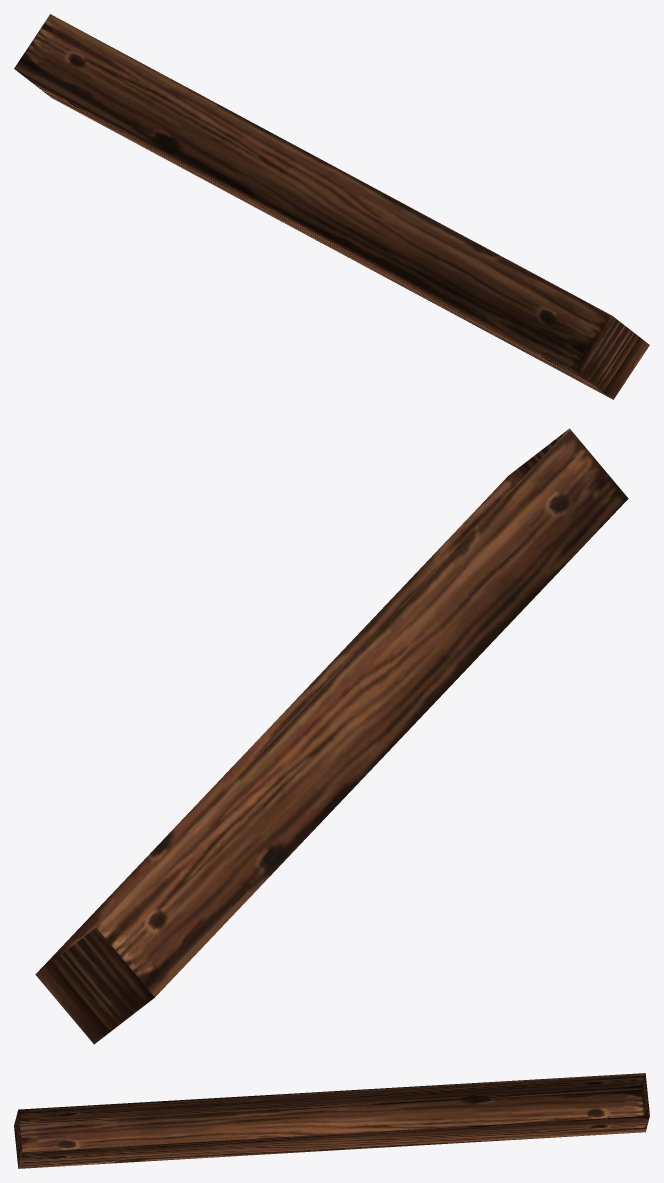
Rendered from OVERHILL_A_01_POST46.fbx.
3 views of the same model, one above another, from view 1: azimuth 30°, elevation 25°; view 2: azimuth 150°, elevation 25°; view 3: azimuth 270°, elevation 25° (orthographic). The views are drawn at different scales.
Visible parts, largest first — view 1: OVERHILL_A_01_POST46; view 2: OVERHILL_A_01_POST46; view 3: OVERHILL_A_01_POST46.
Part boxes in pixels (<box>): OVERHILL_A_01_POST46: <box>14,14,649,399</box>; OVERHILL_A_01_POST46: <box>35,428,628,1044</box>; OVERHILL_A_01_POST46: <box>14,1073,649,1168</box>.
Size of the model in its own units: 6039 by 2600 by 25056.
Materials: 1 (1 with a texture image).
